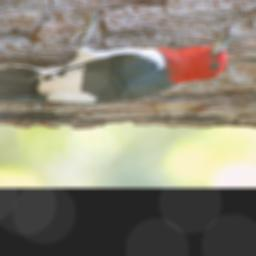Woodpecker: (0, 9, 232, 105)
